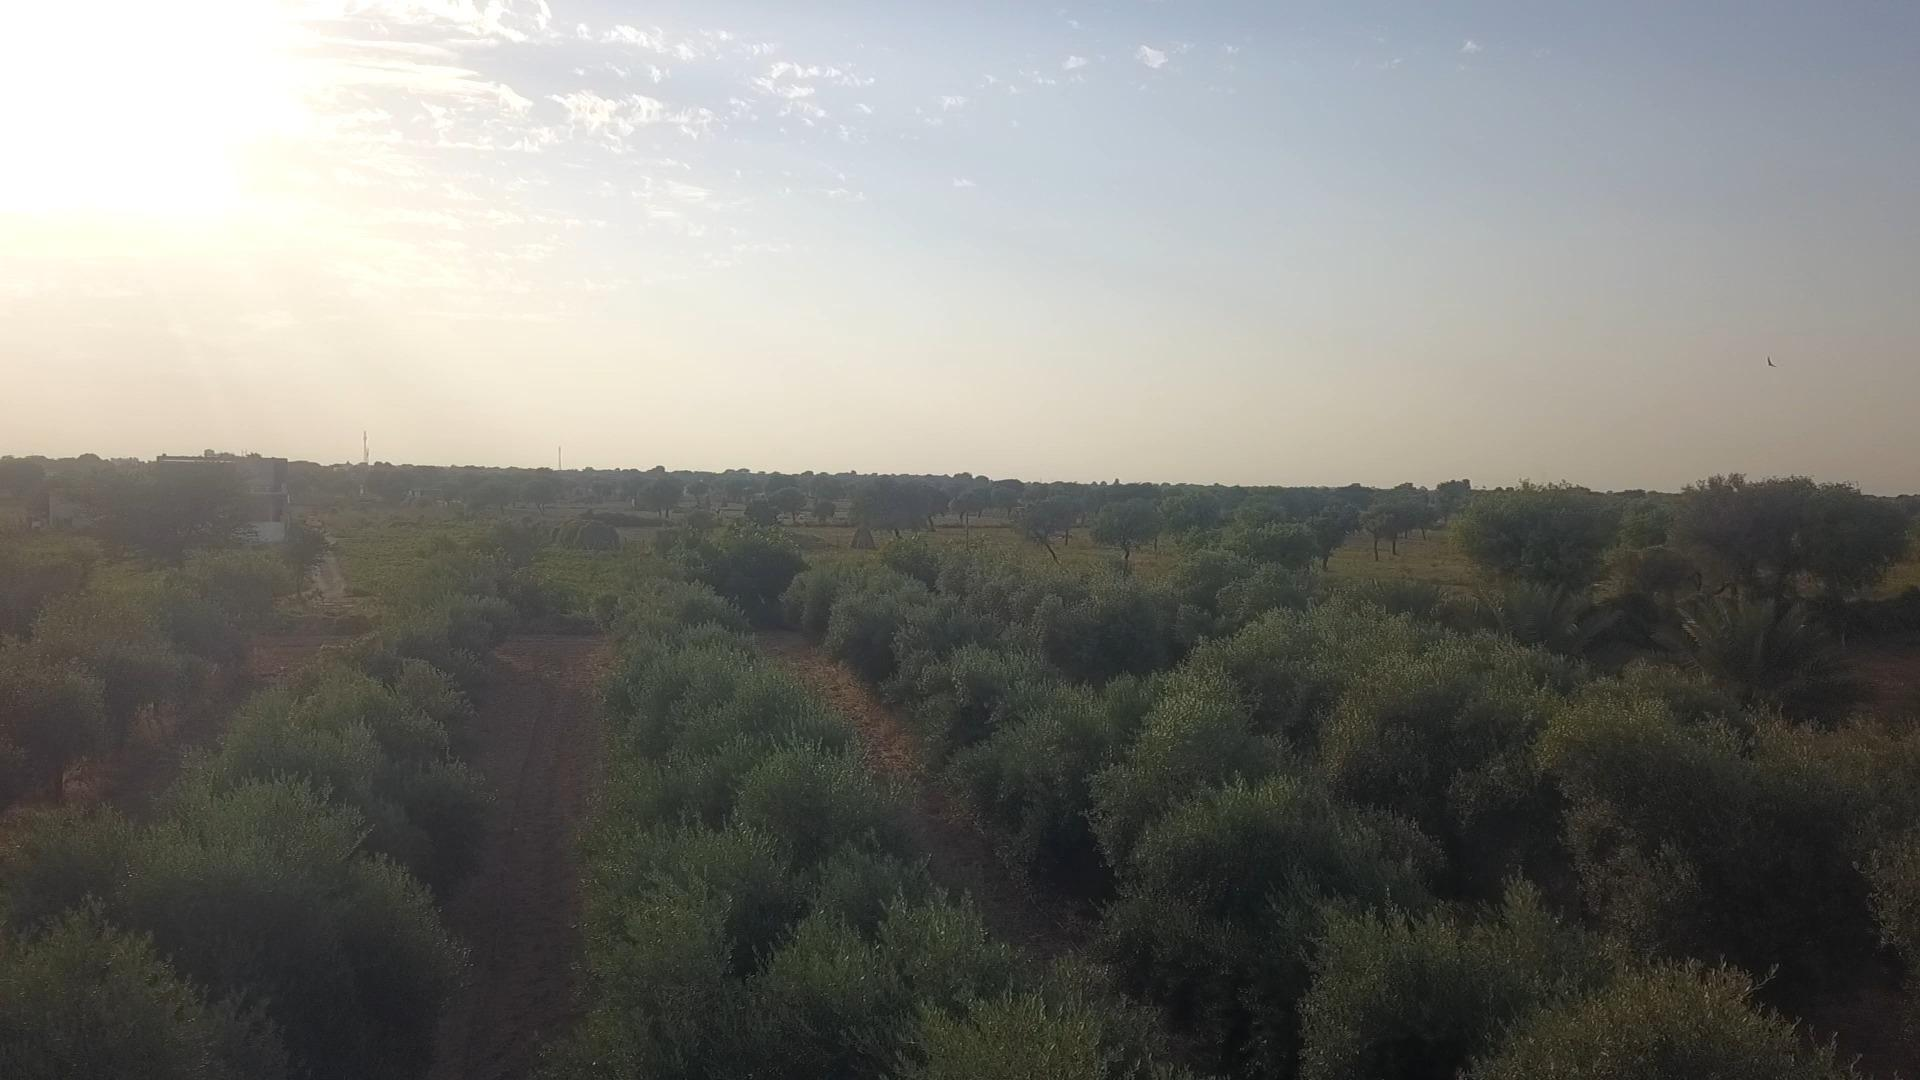canopy: (789, 571, 1855, 1079), (881, 539, 1919, 996), (553, 583, 1185, 1079), (0, 597, 512, 1079), (0, 553, 287, 808)
road: (752, 629, 1069, 949), (0, 629, 342, 882), (427, 636, 608, 1077)
